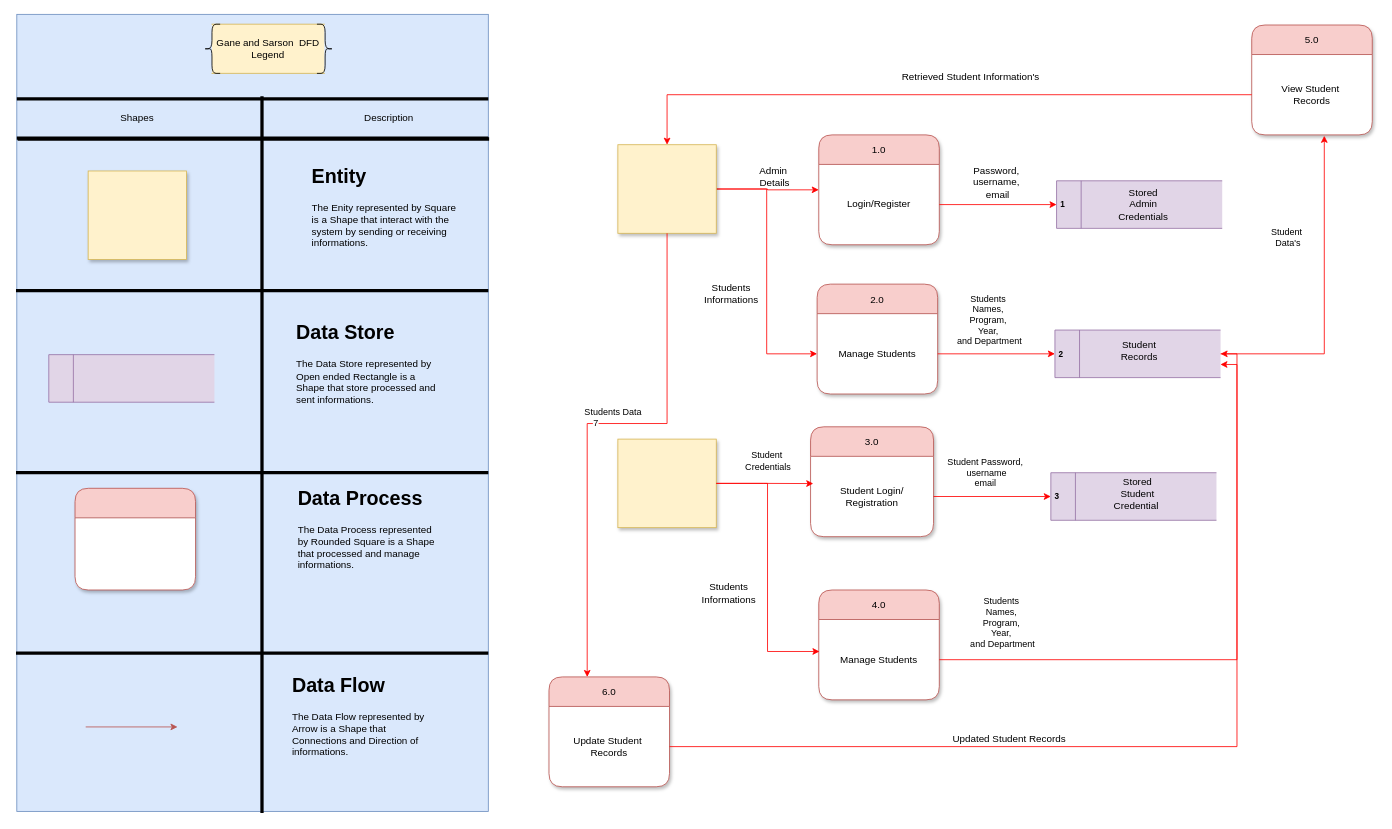
Some shapes in this 1392 by 829 pixel diagram are drawn without their labels. Here are the shapes that lost their labels. From the top down, the centre of each, then its label:
At point 667,190: "Admin".
At point 137,216: "Entity".
At point 131,378: "Data Store".
At point 667,484: "Students".
At point 135,540: "Data Process".
